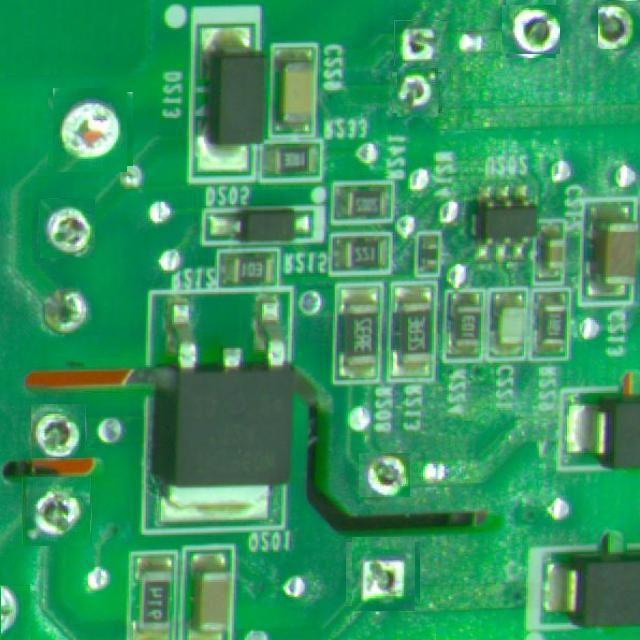lack_of_part: (51, 90, 130, 169), (22, 477, 92, 546), (348, 540, 418, 608), (40, 198, 96, 258), (31, 404, 86, 458), (504, 2, 558, 56), (394, 20, 447, 66), (358, 452, 410, 497), (597, 0, 640, 49), (395, 70, 440, 115), (0, 585, 30, 640)
